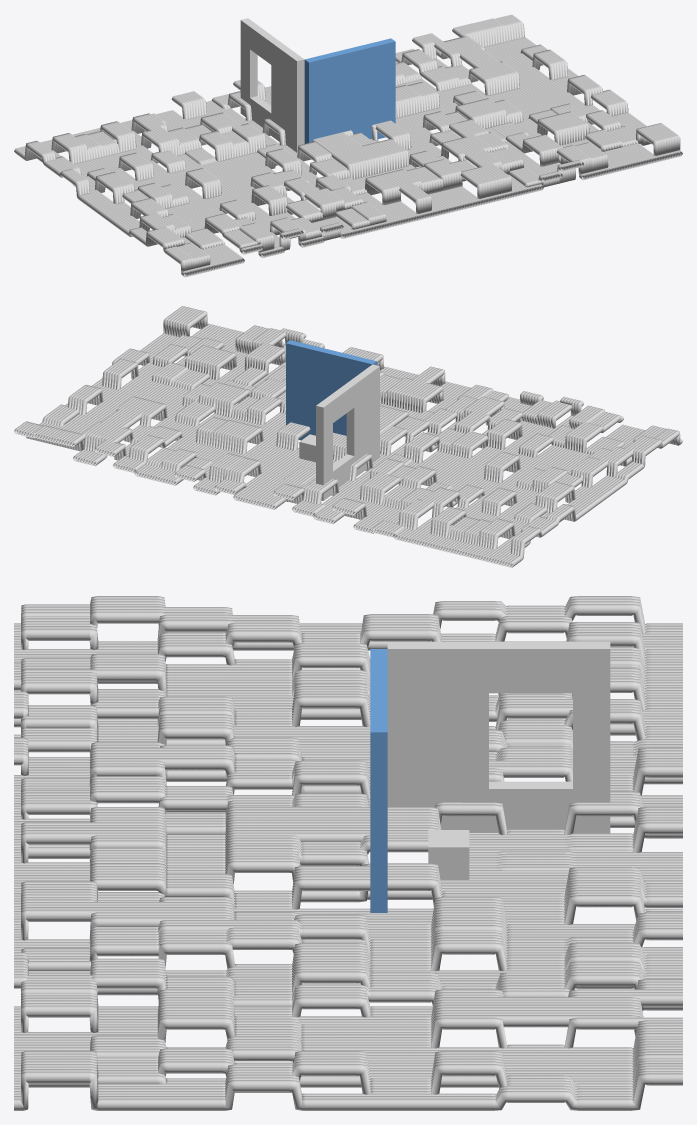
File: geonodes_animation.fbx
3 views of the same model, one above another, from view 1: azimuth 30°, elevation 25°; view 2: azimuth 150°, elevation 25°; view 3: azimuth 270°, elevation 25° (orthographic). The views are drawn at different scales.
Visible parts, largest first — view 1: Plane, Cube, Cube.001; view 2: Plane, Cube.001, Cube, Cube.002; view 3: Plane, Cube.001, Cube, Cube.002.
Boxes of the visible parts, <box> form: Plane: <box>14,14,682,277</box>; Cube: <box>304,38,395,143</box>; Cube.001: <box>240,18,304,152</box>; Plane: <box>14,306,682,567</box>; Cube.001: <box>316,364,379,500</box>; Cube: <box>286,340,376,440</box>; Cube.002: <box>299,434,315,462</box>; Plane: <box>14,596,682,1110</box>; Cube.001: <box>387,641,610,833</box>; Cube: <box>370,649,387,912</box>; Cube.002: <box>428,830,469,879</box>.
Bounding box in the file's own units: 5534 × 1021 × 3256.
